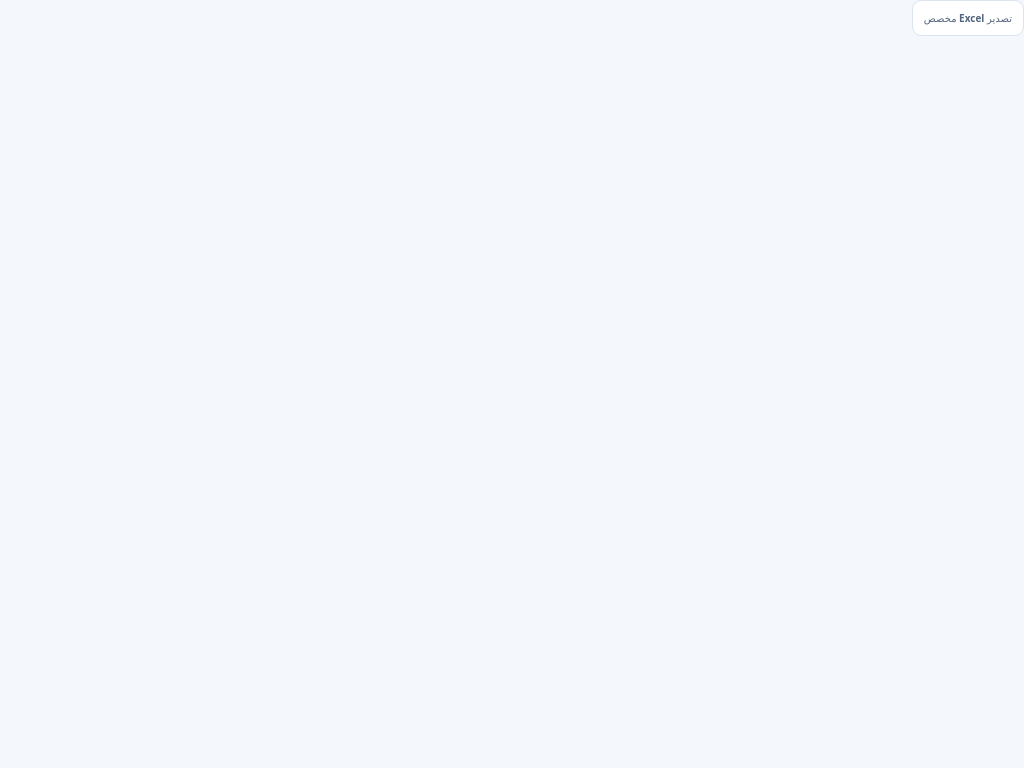
Scenario: CustomExcelExportButton › does not permit download until preview succeeds and invalidates preview when columns change
Click the button "تصدير Excel مخصص" at (968, 18), box [912, 0, 1023, 36]
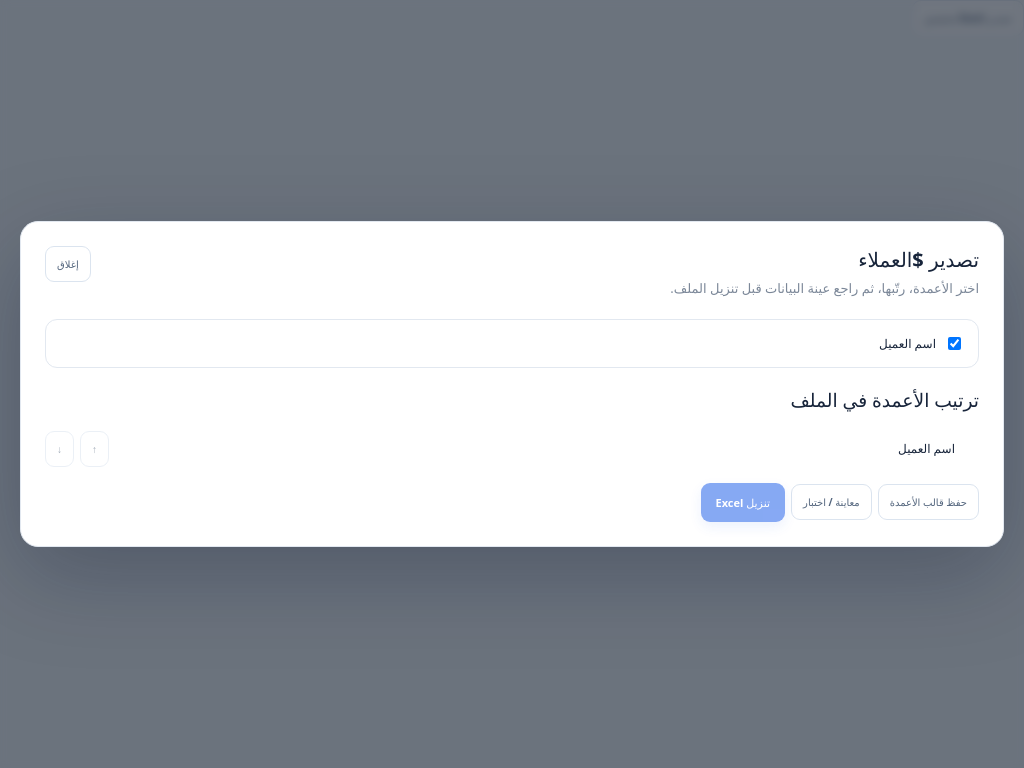
Result: the checkbox labelled "اسم العميل" is shown at [948, 337, 961, 350]
Result: the button "تنزيل Excel" is disabled at [700, 483, 785, 522]
Click the button "معاينة / اختبار" at (831, 502), box [791, 484, 872, 520]
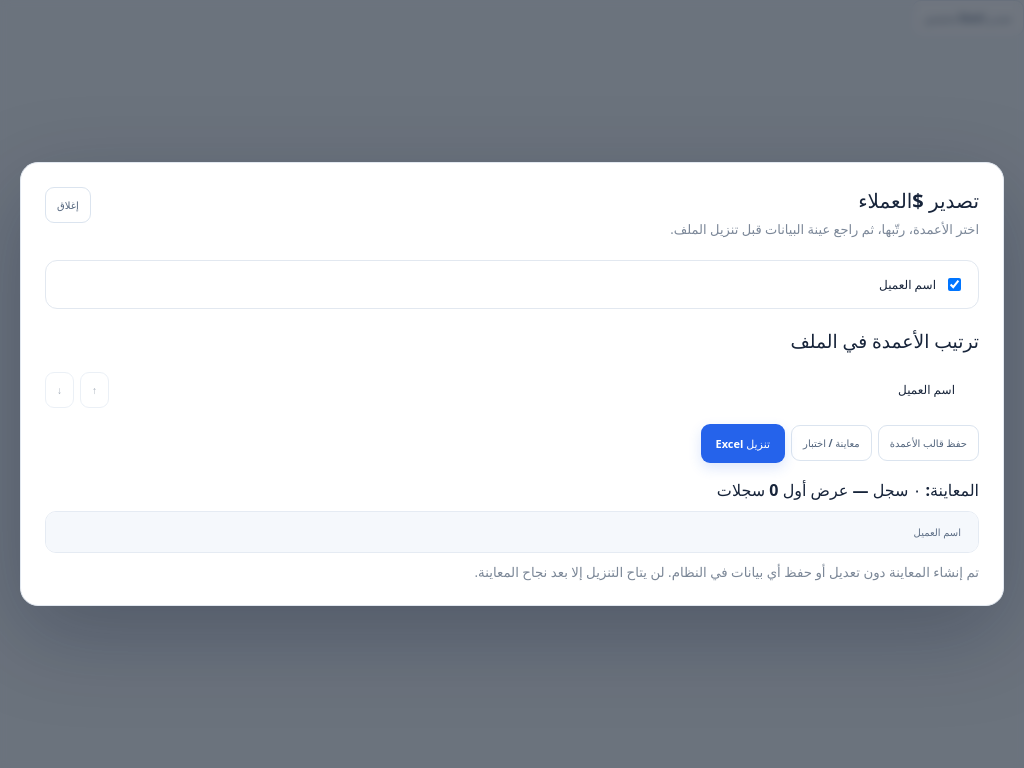
Result: the button "تنزيل Excel" is enabled at [700, 424, 785, 463]
Click the checkbox labelled "اسم العميل" at (954, 285), box [948, 278, 961, 291]
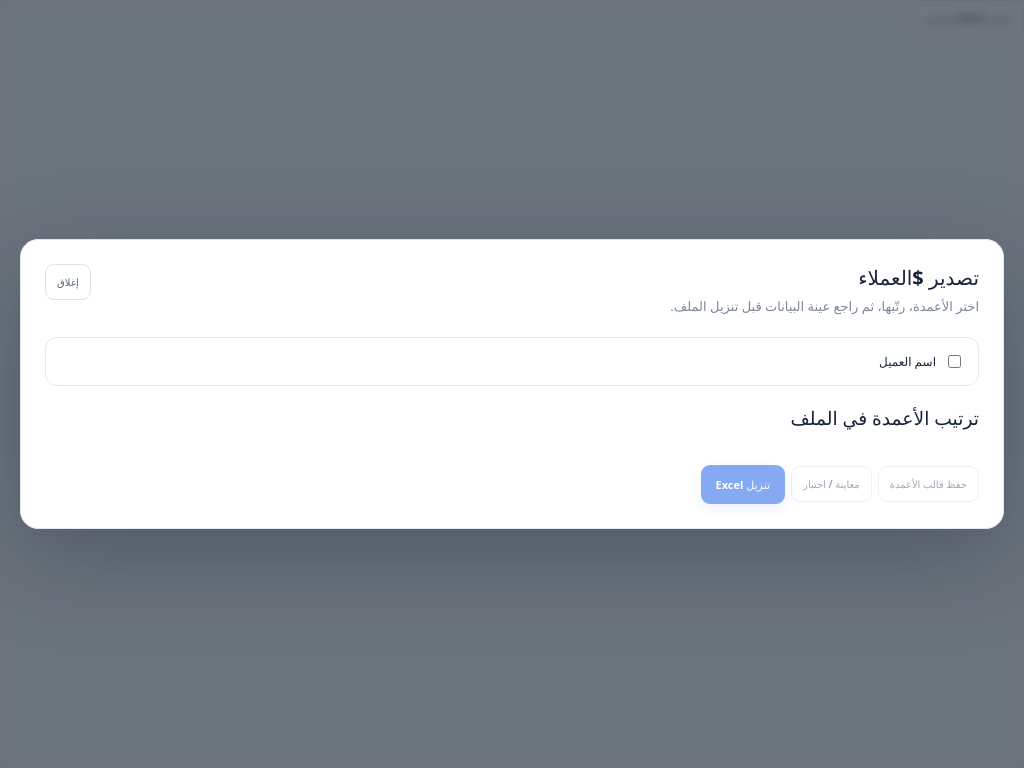
Result: the button "تنزيل Excel" is disabled at [700, 465, 785, 504]
